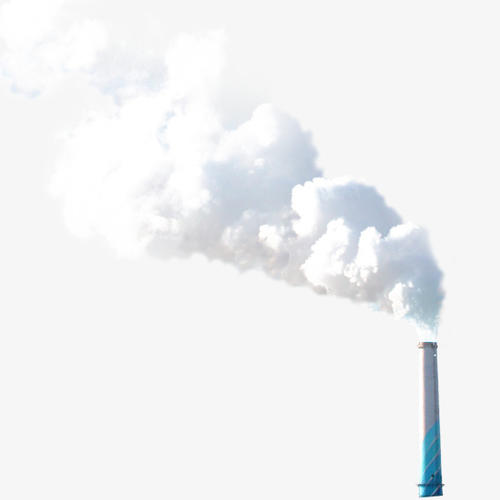smoke: (103, 108, 448, 329)
